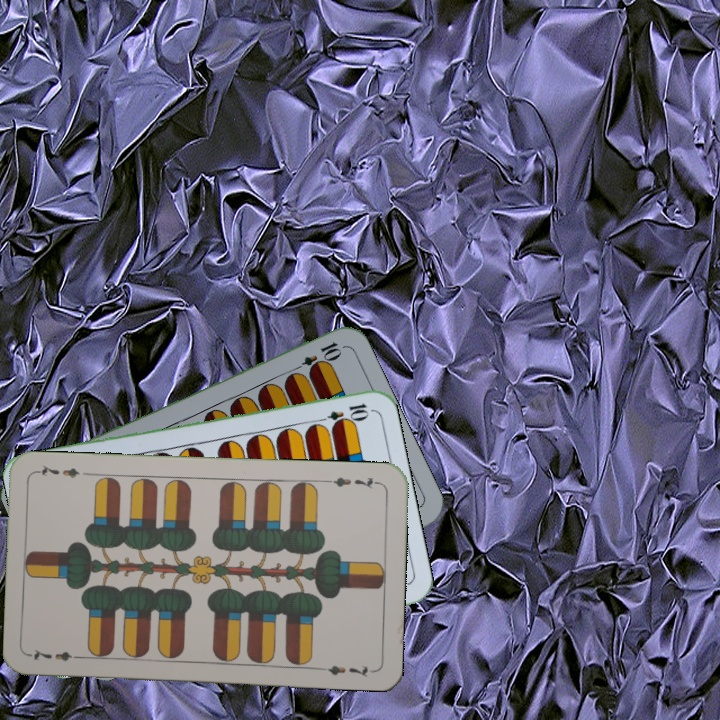E10: (288, 338, 344, 376), (312, 399, 371, 427)
E7: (323, 473, 382, 492), (27, 645, 86, 664)
